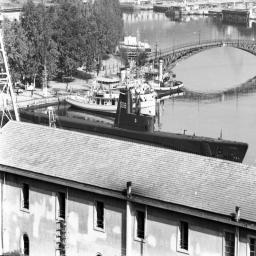submarine: (13, 89, 246, 169)
